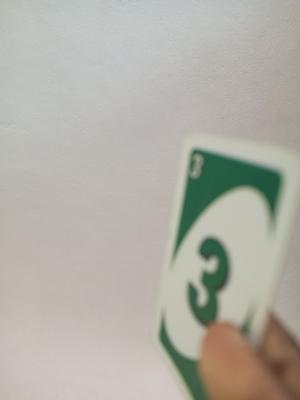green: (185, 150, 222, 202)
num_3: (181, 236, 240, 326)
